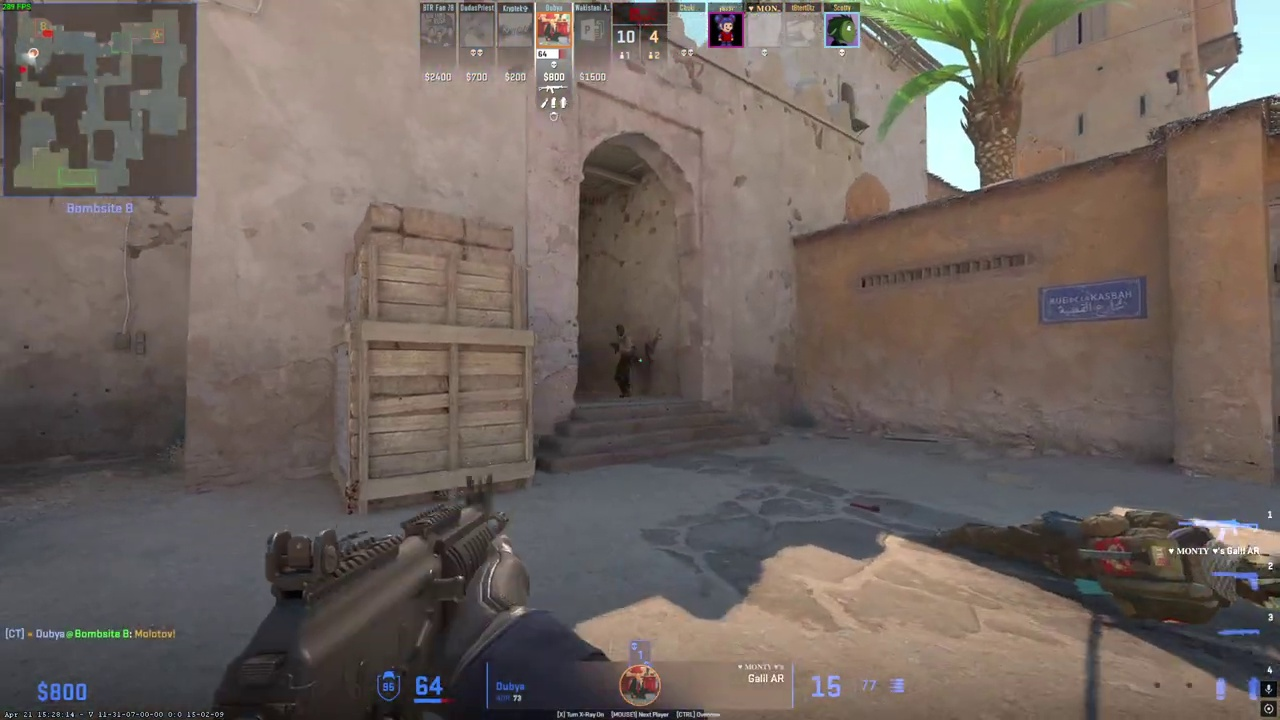Terrorist: (609, 324, 634, 397)
